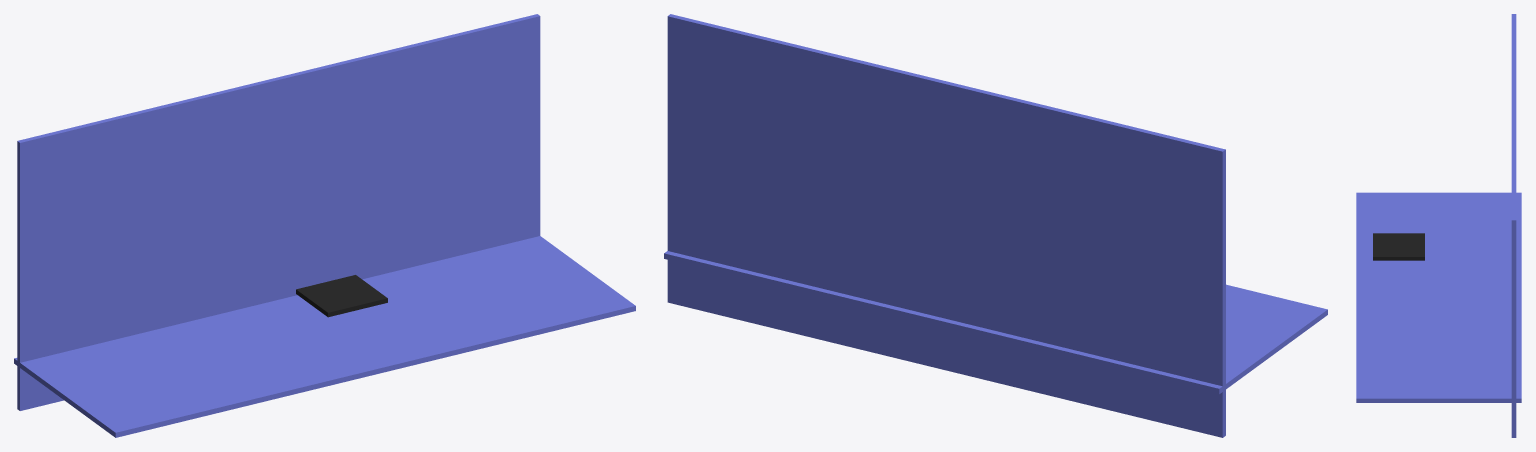
File: sahne.fbx
3 views of the same model, side by side, from view 1: azimuth 30°, elevation 25°; view 2: azimuth 150°, elevation 25°; view 3: azimuth 270°, elevation 25° (orthographic). The views are drawn at different scales.
Visible parts, largest first — view 1: zemin.001, zemin, masa; view 2: zemin.001, zemin; view 3: zemin, zemin.001, masa.
Part boxes in pixels (x1,y1,x2,y2): zemin.001: (17,14,540,410); zemin: (14,236,635,437); masa: (296,275,387,317); zemin.001: (667,14,1225,437); zemin: (664,251,1327,394); zemin: (1356,192,1521,402); zemin.001: (1511,14,1516,437); masa: (1373,233,1424,260).
Bounding box in the file's own units: 10.89 × 5.36 × 3.69.
